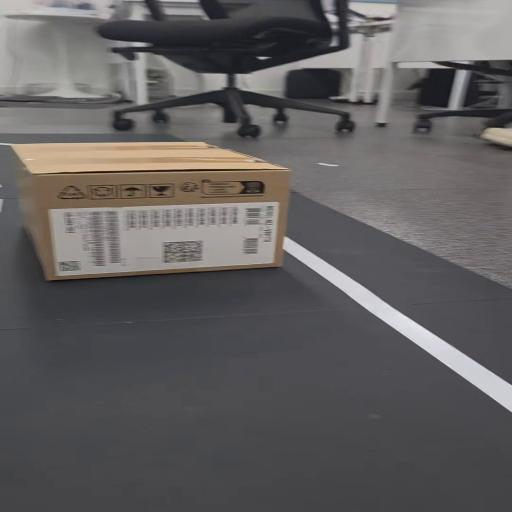Box: (6, 139, 302, 292)
